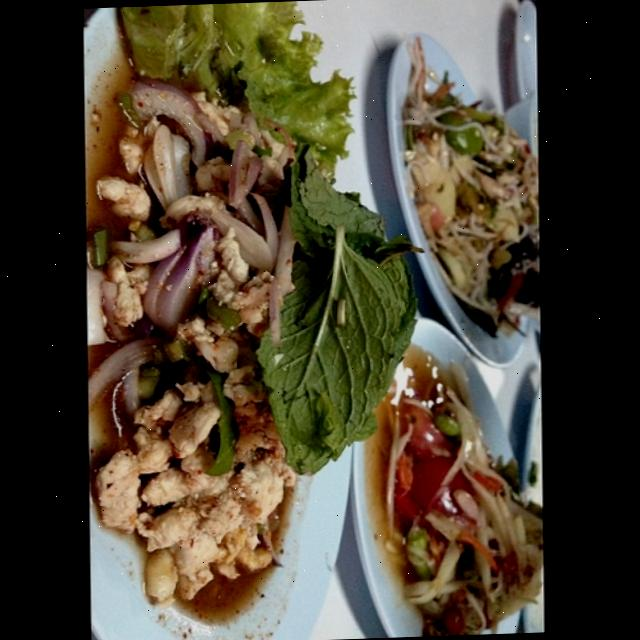鸡肉料理 含炸鸡: (73, 31, 592, 636)
